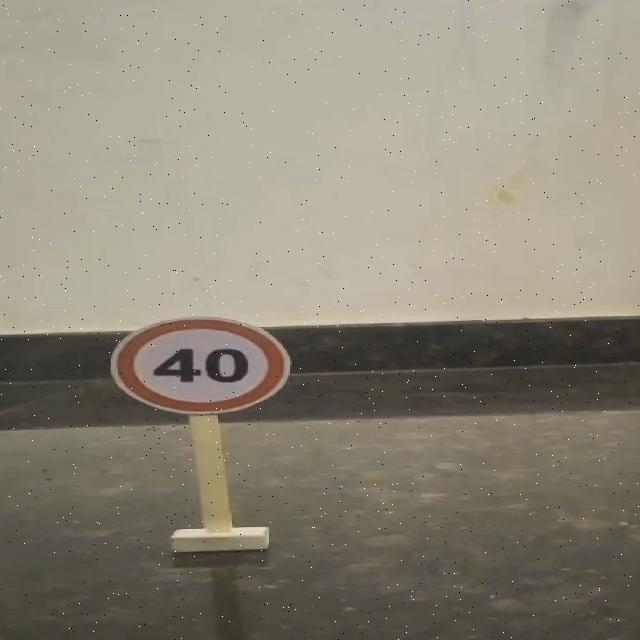Speed40: (108, 312, 294, 418)
